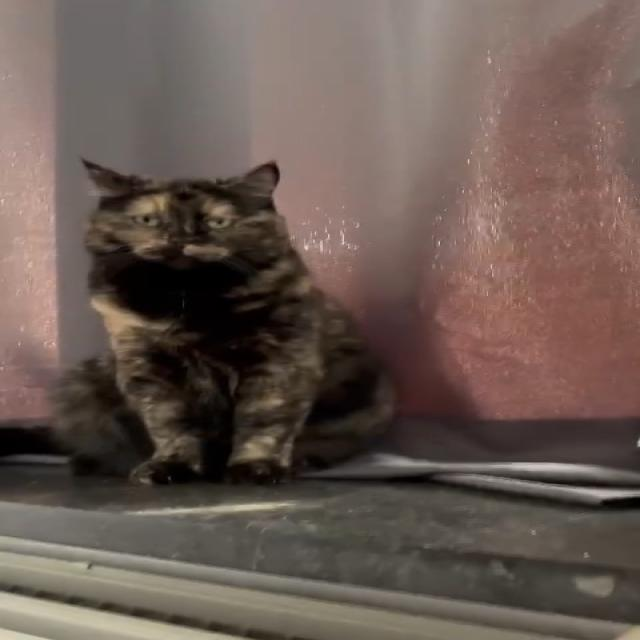authorized: (48, 156, 399, 486)
